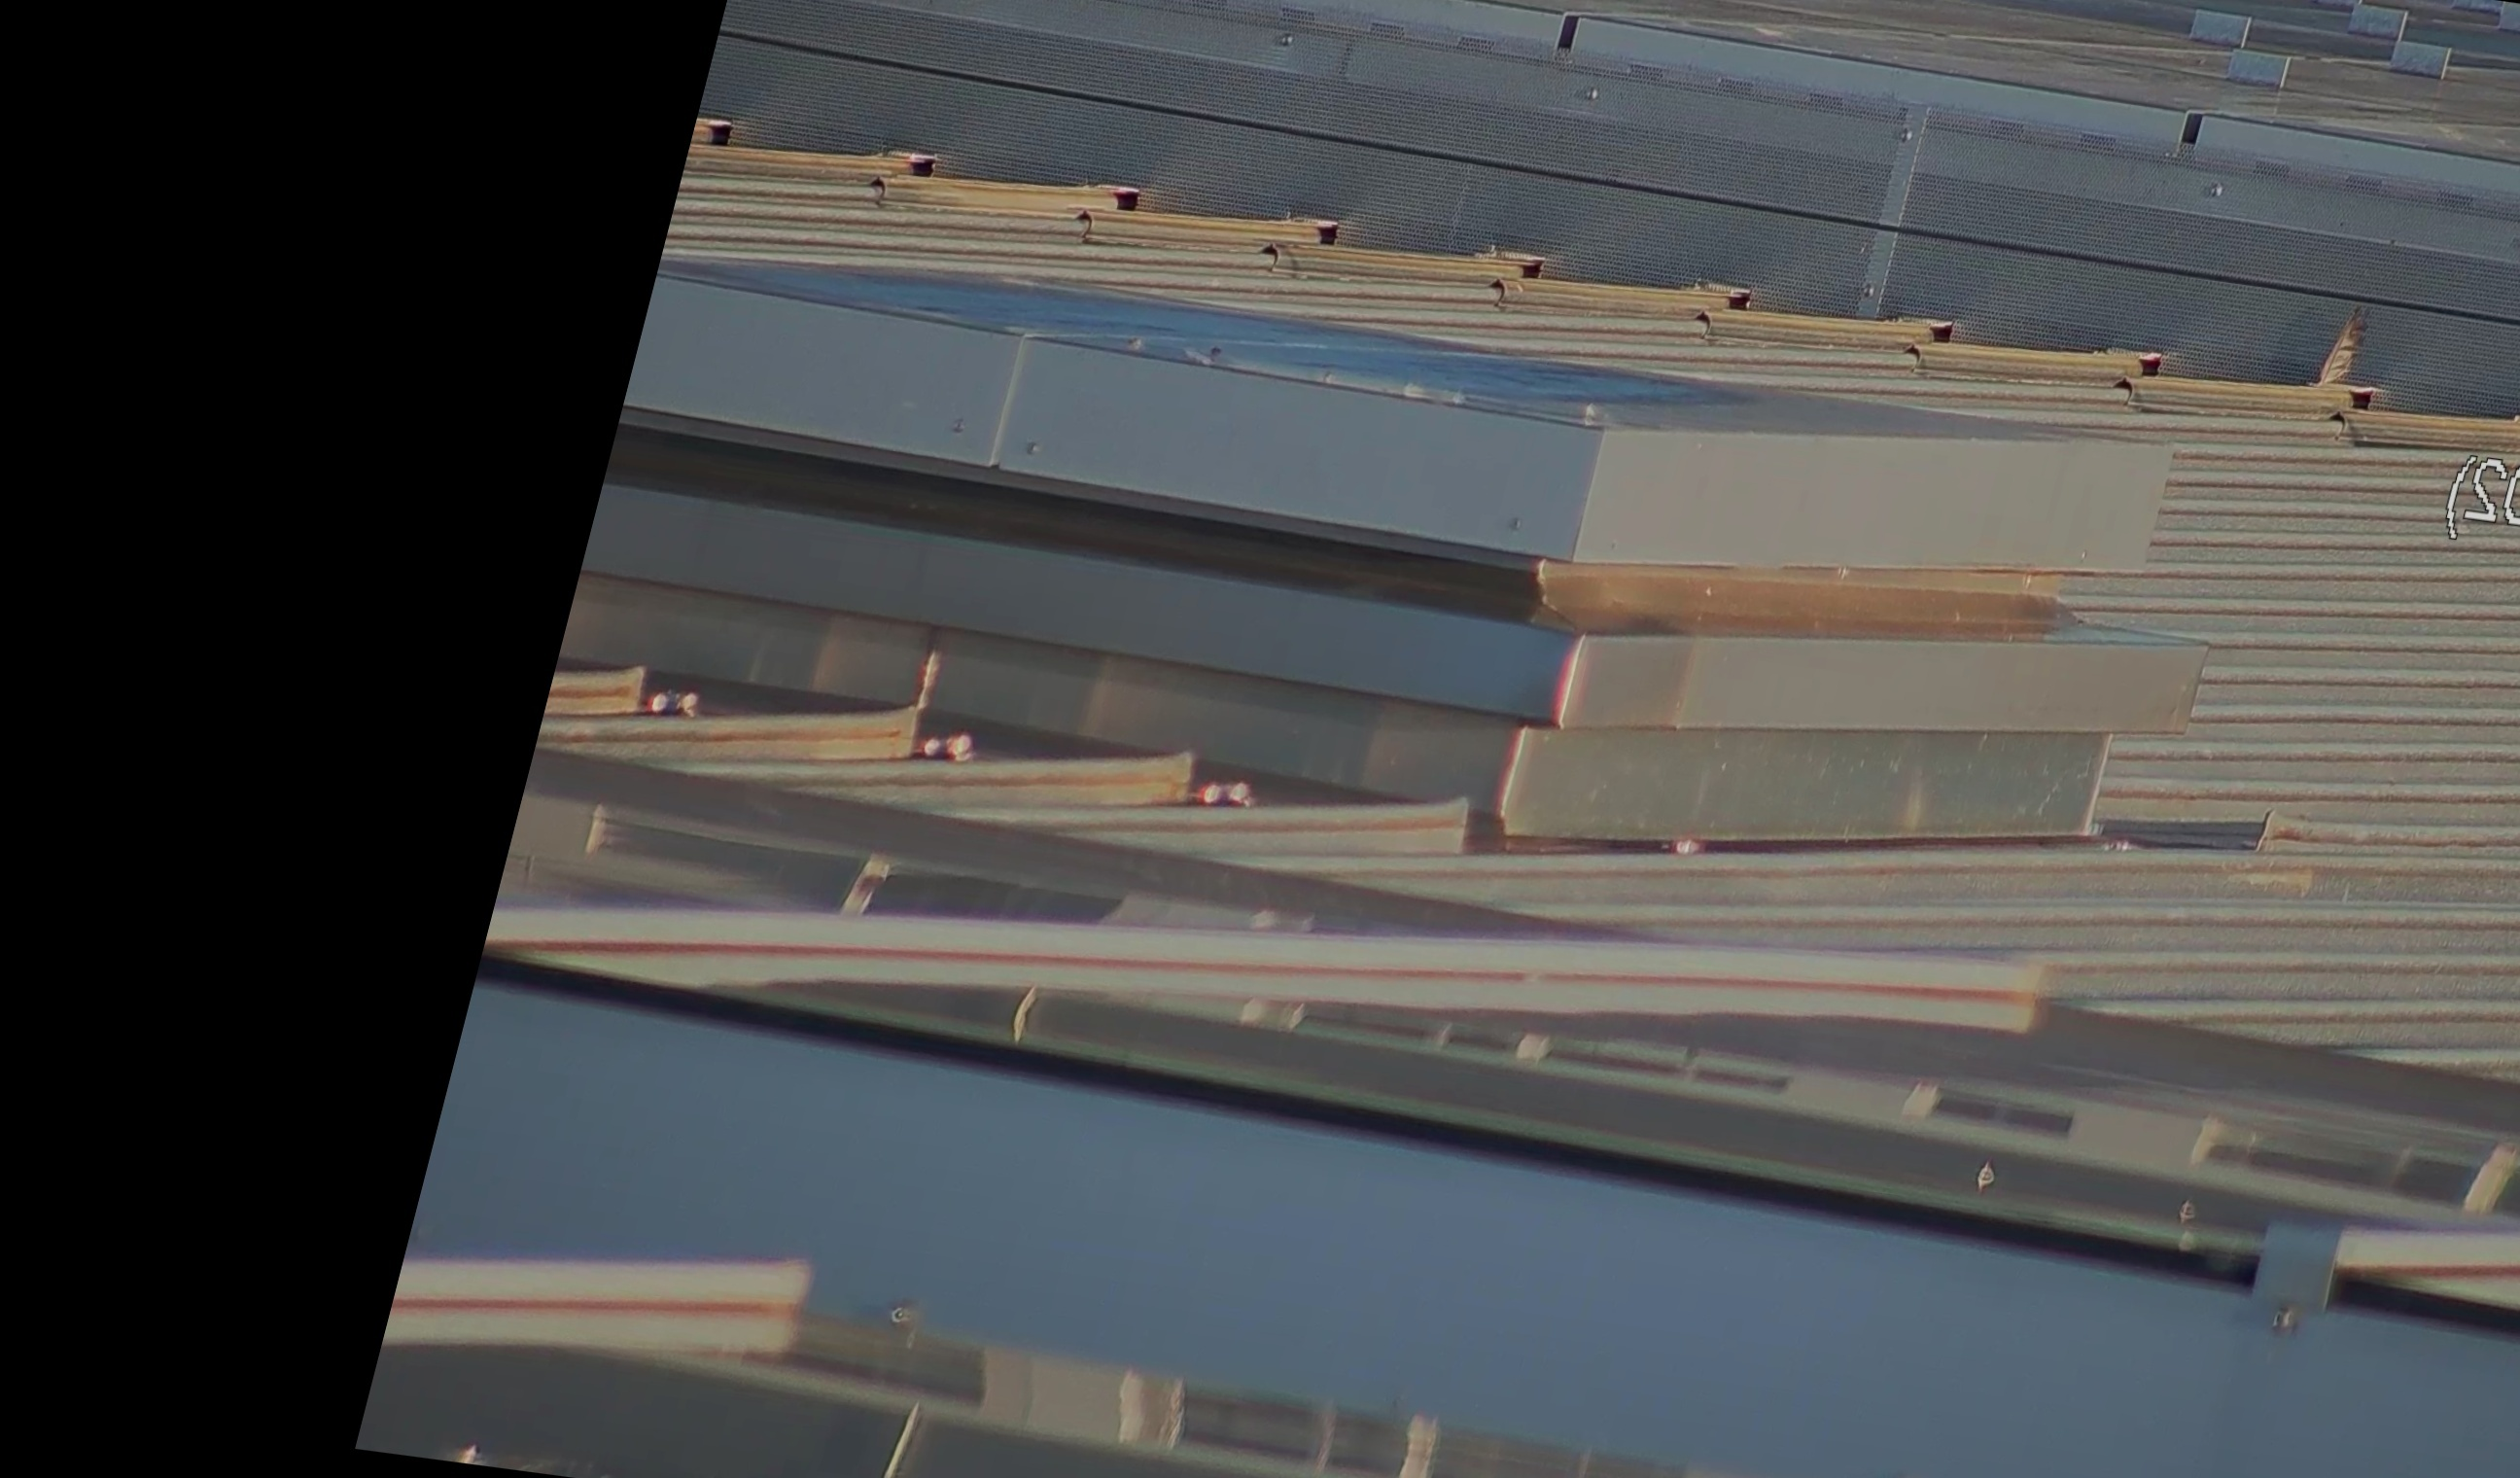Other: (2307, 285, 2404, 412)
